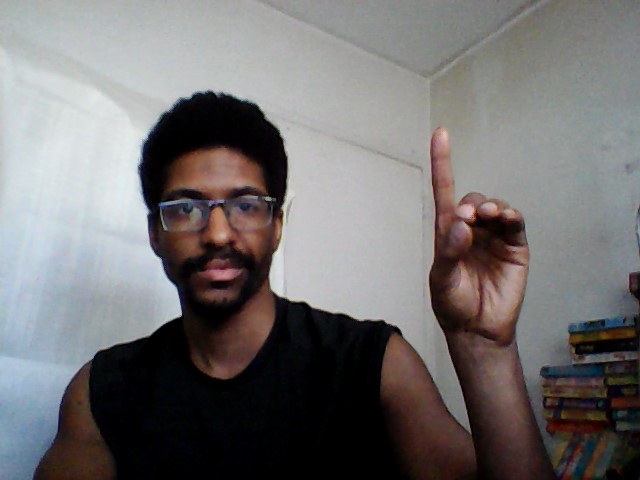d: (421, 120, 537, 348)
